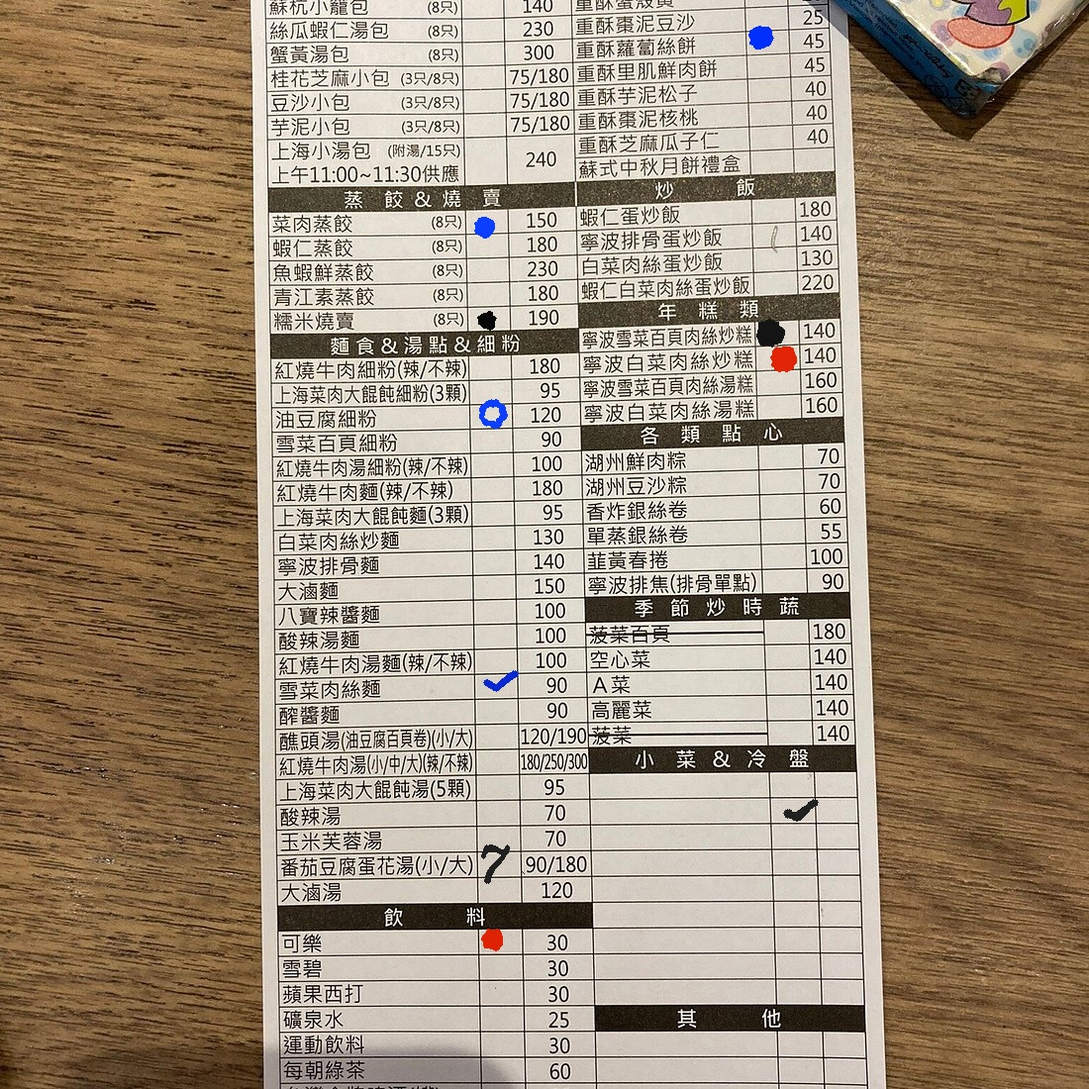marked_circle: (467, 303, 511, 331), (466, 208, 510, 236), (755, 346, 799, 373), (757, 322, 801, 349), (744, 29, 788, 56), (479, 927, 523, 954)
marked_hollow: (468, 402, 512, 430)
marked_number_7: (478, 850, 522, 878)
marked_tick: (475, 672, 519, 700), (773, 796, 817, 824)
